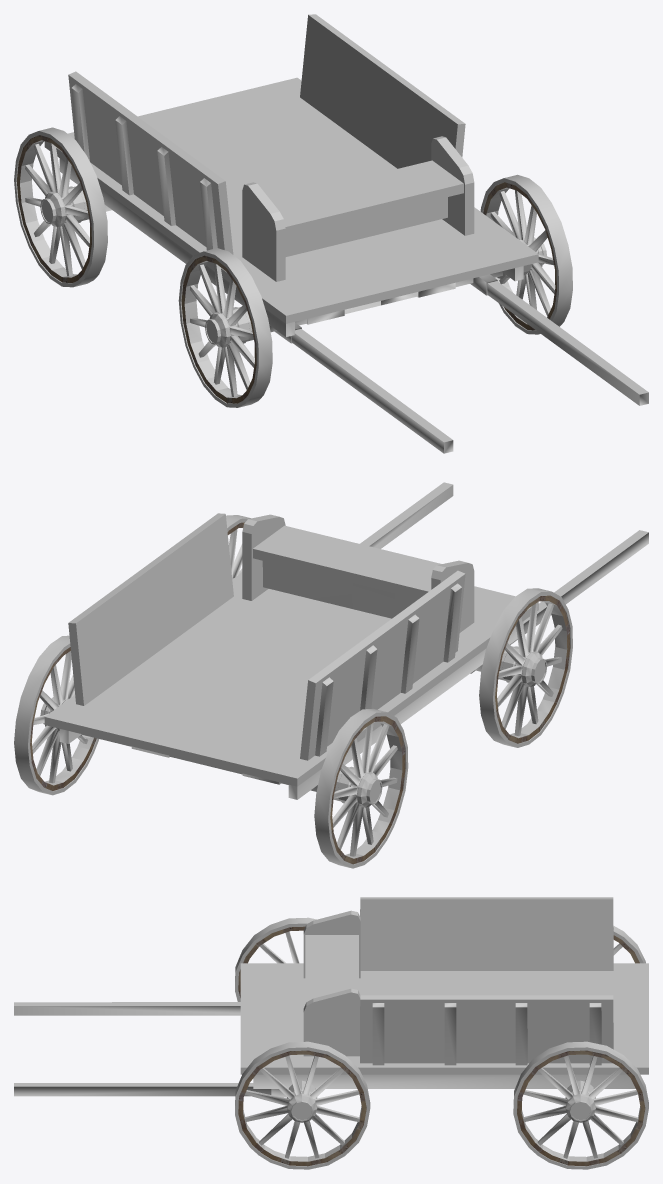
File: MS_Carriage.fbx
The picture shows the model from 3 angles, top to bottom: view 1: azimuth 30°, elevation 25°; view 2: azimuth 150°, elevation 25°; view 3: azimuth 270°, elevation 25°; orthographic projection. The views are drawn at different scales.
Visible parts, largest first — view 1: MSH_Carriage, MSH_WheelFR, MSH_WheelBR, MSH_WheelFL; view 2: MSH_Carriage, MSH_WheelFR, MSH_WheelBR, MSH_WheelBL, MSH_WheelFL; view 3: MSH_Carriage, MSH_WheelBL, MSH_WheelFL, MSH_WheelFR, MSH_WheelBR.
Boxes of the visible parts, left/top/right/bottom form: MSH_Carriage: left=44, top=14, right=648, bottom=453; MSH_WheelFR: left=178, top=248, right=272, bottom=407; MSH_WheelBR: left=14, top=127, right=107, bottom=287; MSH_WheelFL: left=480, top=174, right=572, bottom=334; MSH_Carriage: left=44, top=482, right=648, bottom=799; MSH_WheelFR: left=479, top=588, right=572, bottom=747; MSH_WheelBR: left=314, top=708, right=408, bottom=868; MSH_WheelBL: left=14, top=635, right=99, bottom=795; MSH_WheelFL: left=226, top=515, right=250, bottom=579; MSH_Carriage: left=14, top=897, right=648, bottom=1097; MSH_WheelBL: left=513, top=1041, right=648, bottom=1169; MSH_WheelFL: left=235, top=1041, right=370, bottom=1169; MSH_WheelFR: left=235, top=917, right=316, bottom=1001; MSH_WheelBR: left=613, top=925, right=645, bottom=963.
Bounding box in the file's own units: 315 × 170 × 621.
